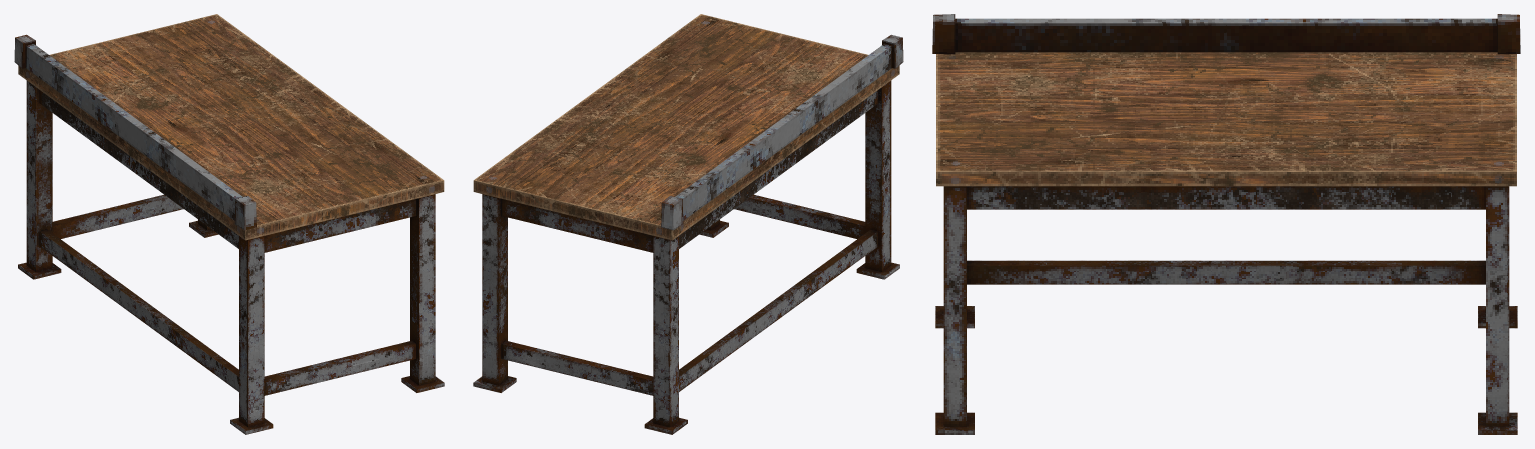
Rendered from Worktable.glb.
3 views of the same model, side by side, from view 1: azimuth 30°, elevation 25°; view 2: azimuth 150°, elevation 25°; view 3: azimuth 270°, elevation 25° (orthographic). The views are drawn at different scales.
Visible parts, largest first — view 1: Cube, Cube.002, Cube.007, Cube.006, Cube.001, Cube.005, Cube.003, Cube.004; view 2: Cube, Cube.002, Cube.007, Cube.006, Cube.001, Cube.005, Cube.003, Cube.004; view 3: Cube, Cube.007, Cube.005, Cube.001, Cube.003, Cube.002.
Part boxes in pixels (x1,y1,x2,y2): Cube: [18, 14, 444, 240]; Cube.002: [18, 80, 273, 434]; Cube.007: [14, 34, 256, 230]; Cube.006: [52, 194, 416, 395]; Cube.001: [189, 194, 444, 392]; Cube.005: [39, 229, 238, 391]; Cube.003: [39, 90, 238, 248]; Cube.004: [264, 199, 416, 252]; Cube: [473, 14, 899, 240]; Cube.002: [644, 80, 899, 434]; Cube.007: [661, 34, 903, 230]; Cube.006: [501, 194, 865, 395]; Cube.001: [473, 194, 728, 392]; Cube.005: [679, 229, 878, 391]; Cube.003: [679, 90, 878, 248]; Cube.004: [501, 199, 653, 252]; Cube: [936, 52, 1516, 186]; Cube.007: [932, 14, 1520, 54]; Cube.005: [967, 260, 1485, 284]; Cube.001: [935, 186, 1517, 434]; Cube.003: [967, 186, 1485, 209]; Cube.002: [935, 306, 1517, 328].
Size of the model in its own units: 1.03 by 1.12 by 2.02.
1 material, 1 textured.
